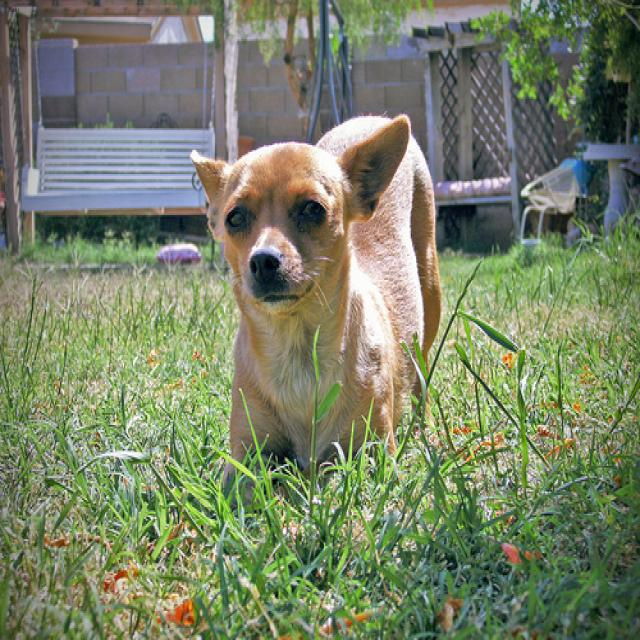dog-chihuahua: (183, 104, 445, 519)
